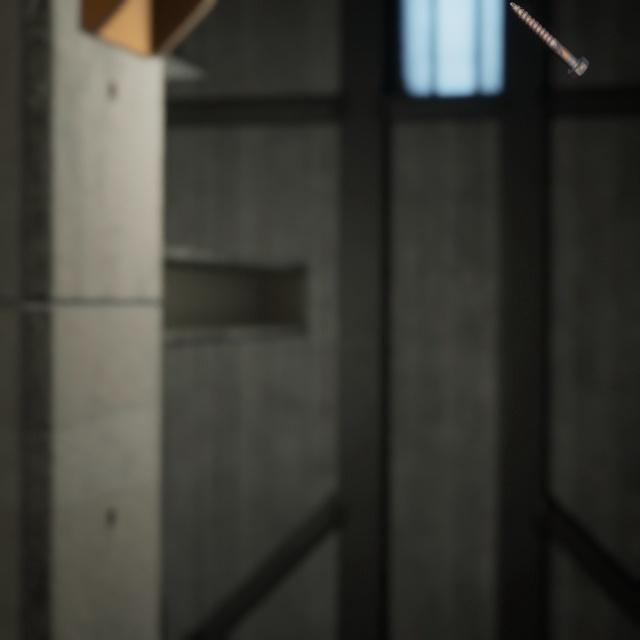bolt: (506, 0, 593, 74)
